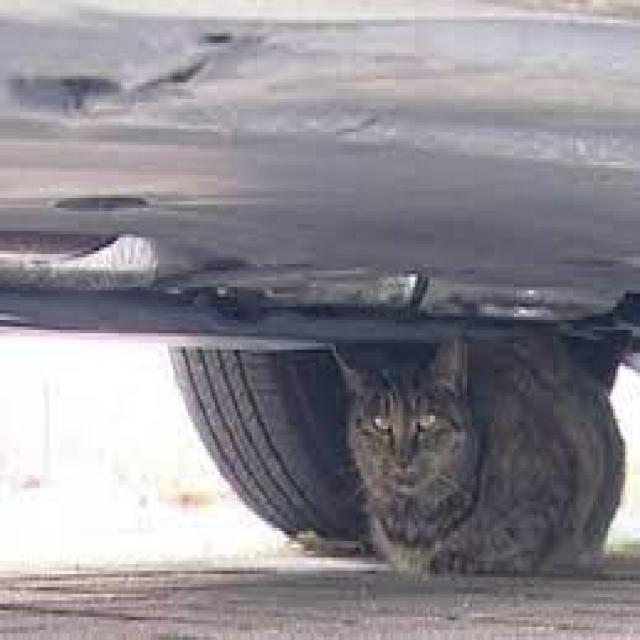cat: (289, 277, 640, 614)
